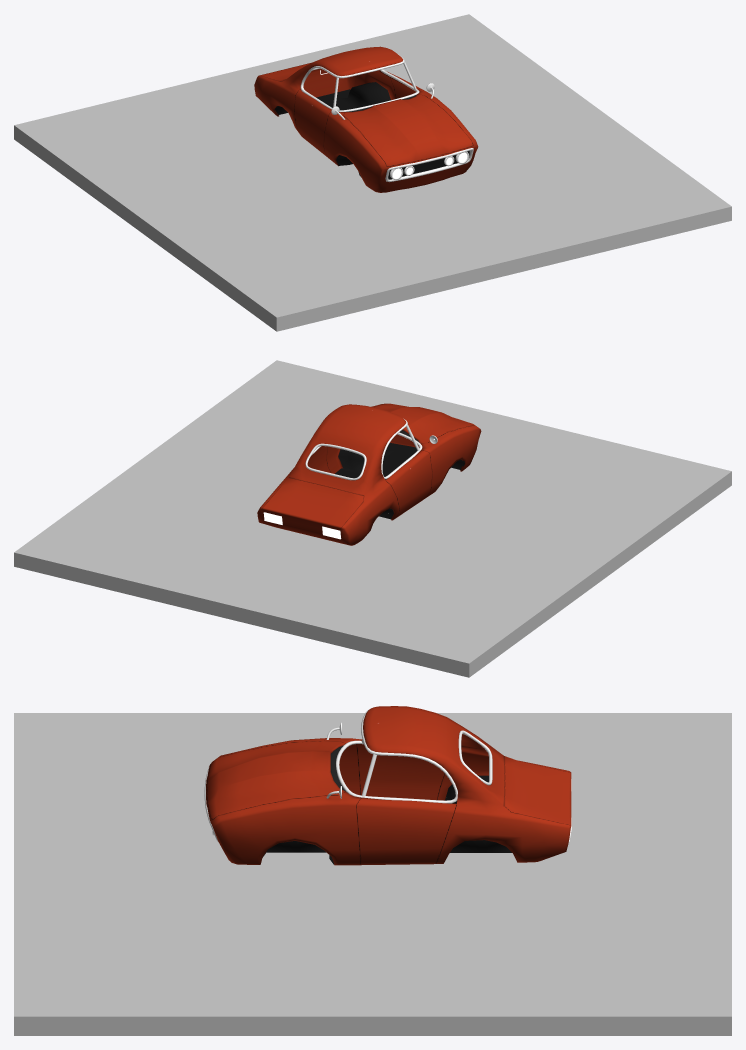
Rendered from vpet_demoScene_v002.fbx.
3 views of the same model, one above another, from view 1: azimuth 30°, elevation 25°; view 2: azimuth 150°, elevation 25°; view 3: azimuth 270°, elevation 25° (orthographic). The views are drawn at different scales.
Parts seen in each view (by area): view 1: road, car_body; view 2: road, car_body; view 3: road, car_body.
Part boxes in pixels (x1,y1,x2,y2): road: (14, 14, 731, 331); car_body: (254, 46, 478, 192); road: (14, 360, 731, 677); car_body: (257, 403, 481, 545); road: (14, 713, 731, 1035); car_body: (204, 706, 571, 865).
Bounding box in the file's own units: 6 × 1.48 × 6.
